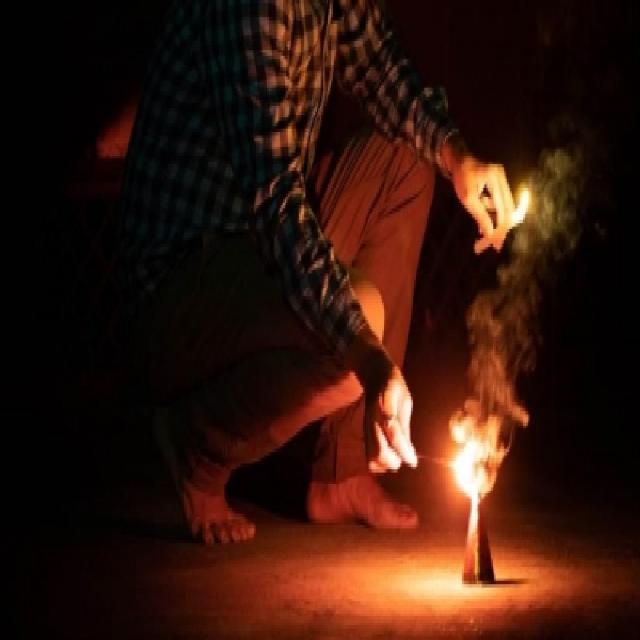fire: (446, 411, 510, 502)
